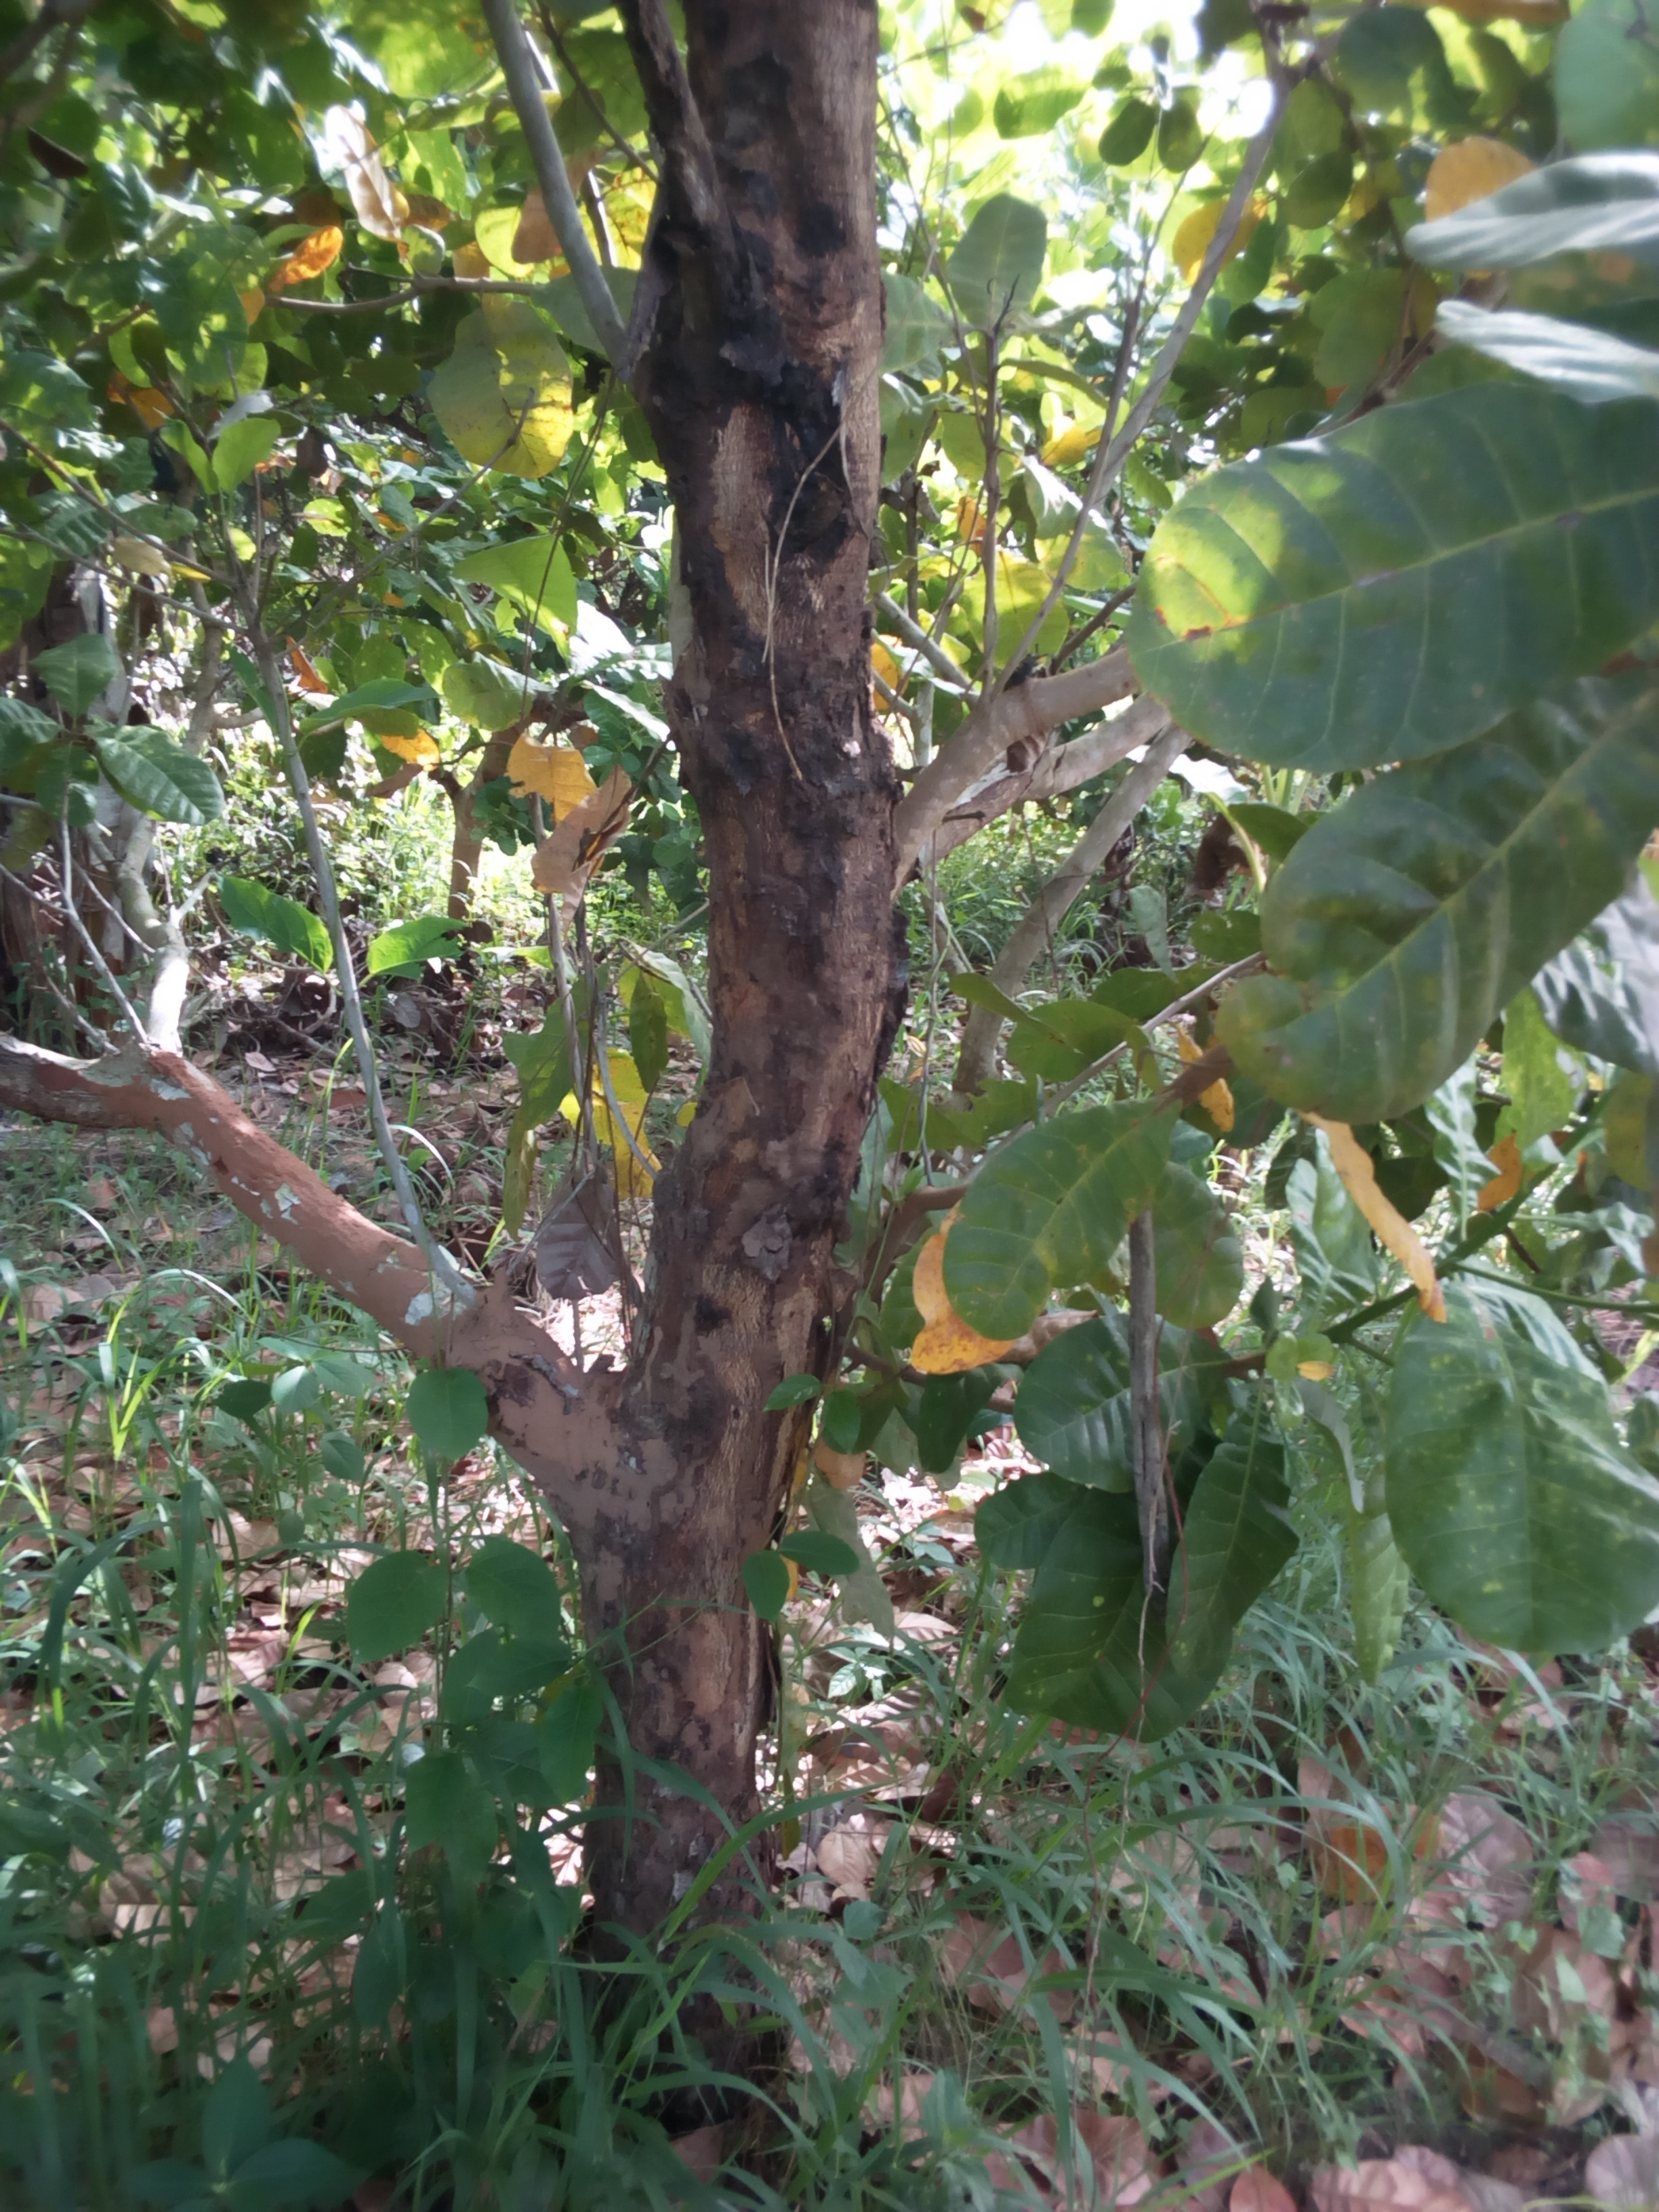Termites: (683, 690, 873, 1397)
